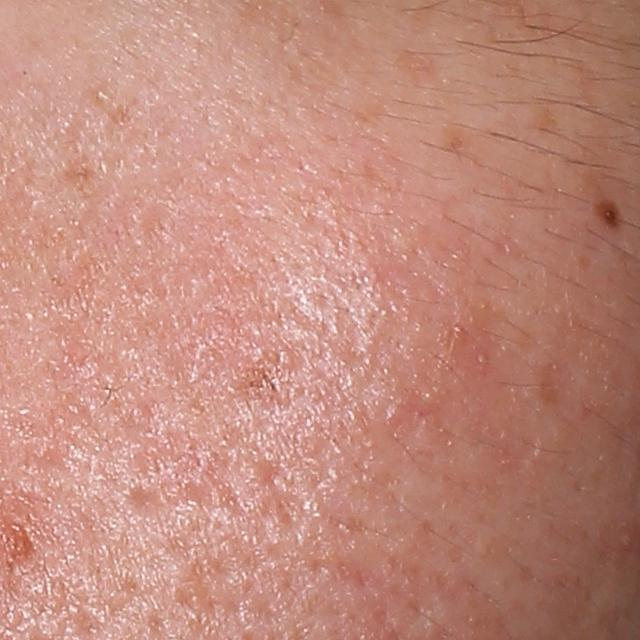atrophic_scar: (255, 460, 310, 534), (123, 485, 169, 518)
melasma: (532, 354, 577, 410), (57, 150, 107, 198), (392, 42, 445, 86), (521, 98, 569, 136), (434, 120, 478, 154)
